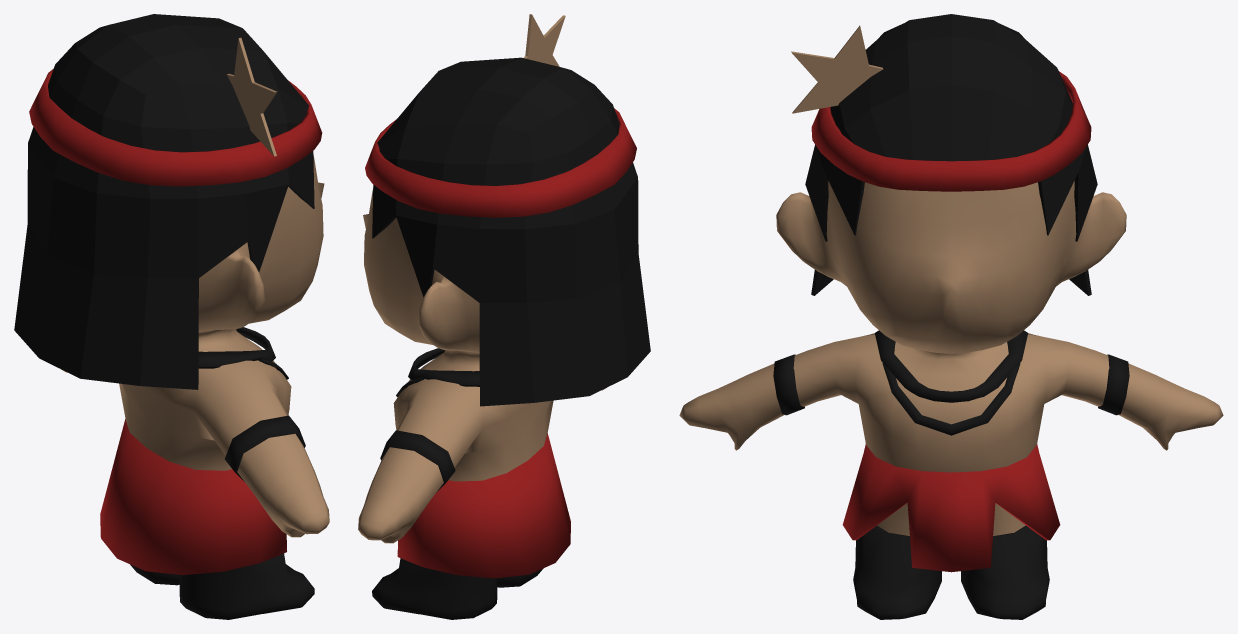
The model's file is Hero4 Apolaki.fbx.
3 views of the same model, side by side, from view 1: azimuth 30°, elevation 25°; view 2: azimuth 150°, elevation 25°; view 3: azimuth 270°, elevation 25° (orthographic). The views are drawn at different scales.
Visible parts, largest first — view 1: hair, body, Bottom, Headgear, body.001, Accessory, Plane; view 2: hair, body, Bottom, Headgear, body.001, Accessory, Plane; view 3: body, hair, Bottom, body.001, Headgear, Accessory, Plane.
Boxes of the visible parts, box(x1,y1,x2,y2) form: hair: box(14, 14, 314, 389); body: box(61, 154, 329, 537); Bottom: box(100, 419, 286, 575); Headgear: box(29, 69, 322, 186); body.001: box(130, 553, 314, 619); Accessory: box(198, 327, 305, 481); Plane: box(227, 37, 277, 156); hair: box(372, 57, 650, 406); body: box(358, 188, 606, 543); Bottom: box(397, 433, 570, 578); Headgear: box(365, 108, 636, 217); body.001: box(372, 558, 543, 619); Accessory: box(380, 348, 479, 492); Plane: box(524, 14, 565, 66); body: box(679, 181, 1223, 535); hair: box(805, 14, 1097, 295); Bottom: box(842, 444, 1060, 572); body.001: box(853, 525, 1049, 619); Headgear: box(811, 71, 1091, 191); Accessory: box(773, 330, 1129, 435); Plane: box(791, 25, 883, 113).
Bounding box in the file's own units: 120 × 237 × 210.
